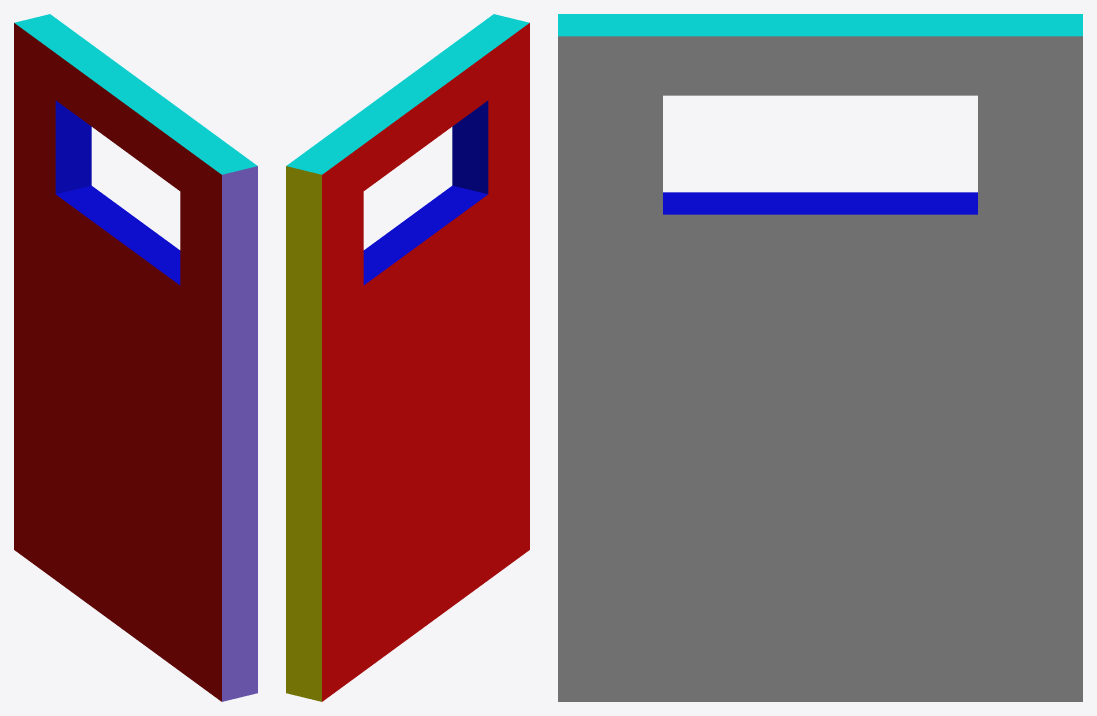
File: Mesh_Wall_07.FBX
The picture shows the model from 3 angles, left to right: view 1: azimuth 30°, elevation 25°; view 2: azimuth 150°, elevation 25°; view 3: azimuth 270°, elevation 25°; orthographic projection. The views are drawn at different scales.
Visible parts, largest first — view 1: Mesh_Wall_07; view 2: Mesh_Wall_07; view 3: Mesh_Wall_07.
Boxes of the visible parts, left/top/right/bottom form: Mesh_Wall_07: left=14, top=14, right=257, bottom=701; Mesh_Wall_07: left=286, top=14, right=529, bottom=701; Mesh_Wall_07: left=558, top=14, right=1082, bottom=701.
Bounding box in the file's own units: 0.2 × 2.8 × 2.
